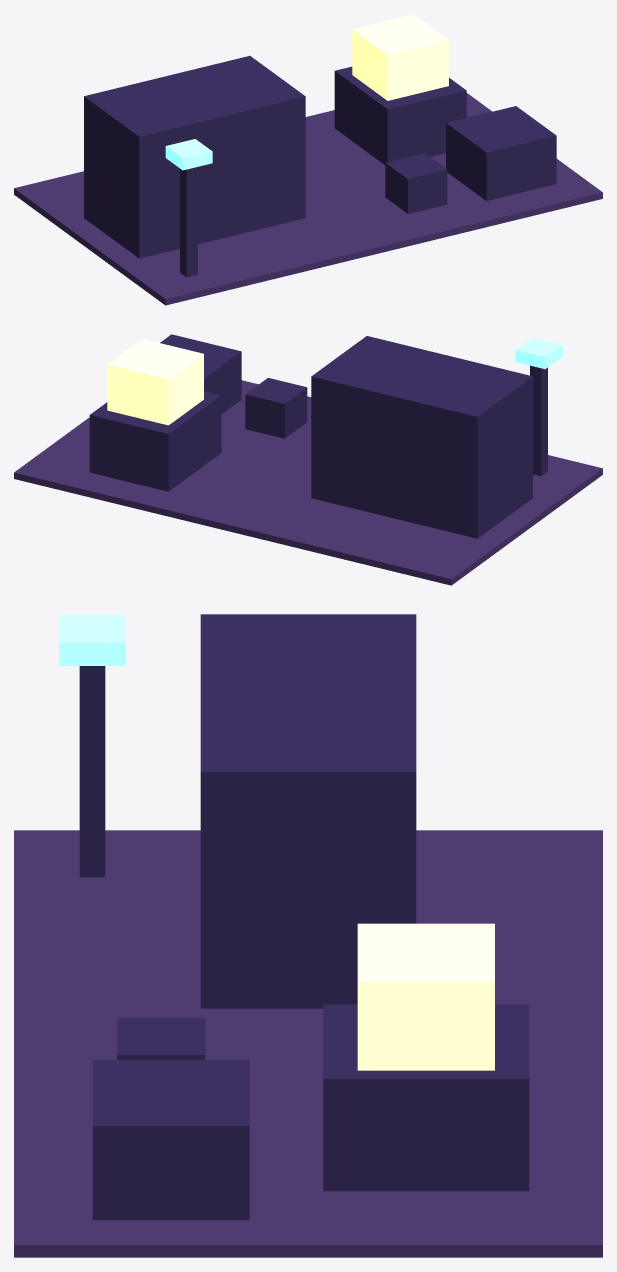
Rendered from 20_loading_dock_crates.glb.
The picture shows the model from 3 angles, top to bottom: view 1: azimuth 30°, elevation 25°; view 2: azimuth 150°, elevation 25°; view 3: azimuth 270°, elevation 25°; orthographic projection. The views are drawn at different scales.
Visible parts, largest first — view 1: dock_house_1, dock_0, crate_stack2_4, crate_stack1_2, crate_glow1_3, crate_small_5, light_pole_6, light_head_7; view 2: dock_house_1, dock_0, crate_stack1_2, crate_glow1_3, crate_small_5, crate_stack2_4, light_pole_6, light_head_7; view 3: dock_0, dock_house_1, crate_stack1_2, crate_stack2_4, crate_glow1_3, light_pole_6, crate_small_5, light_head_7.
Part boxes in pixels (x1,y1,x2,y2): dock_house_1: (84,56,305,258); dock_0: (14,93,602,305); crate_stack2_4: (446,106,556,200); crate_stack1_2: (334,66,466,164); crate_glow1_3: (352,14,448,100); crate_small_5: (385,153,447,213); light_pole_6: (180,167,197,277); light_head_7: (165,139,212,170); dock_house_1: (311,336,532,538); dock_0: (14,380,602,585); crate_stack1_2: (89,391,221,491); crate_glow1_3: (107,339,203,425); crate_small_5: (245,378,307,438); crate_stack2_4: (160,334,241,413); light_pole_6: (530,365,547,476); light_head_7: (515,337,562,369); dock_0: (14,830,602,1257); dock_house_1: (200,614,416,1008); crate_stack1_2: (323,1004,529,1191); crate_stack2_4: (92,1059,249,1220); crate_glow1_3: (357,923,494,1070); light_pole_6: (79,666,105,877); crate_small_5: (117,1017,205,1059); light_head_7: (59,614,125,665).
Size of the model in its own units: 10 by 2.87 by 6.
